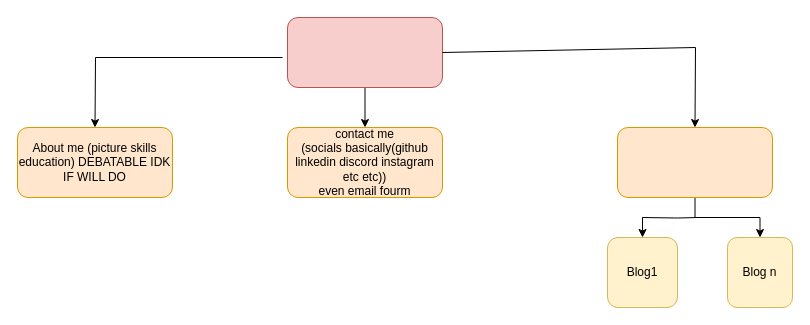
Image size: 810x325. Some labels were removed from this diagram. Each missing label, with the centre of its shape:
"Blogs list" belongs at (x=694, y=162).
"Bubbles intro page | v projects showcase" belongs at (x=364, y=52).
